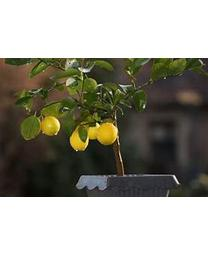lemon: (96, 123, 117, 146), (71, 127, 88, 152), (42, 115, 58, 135)
